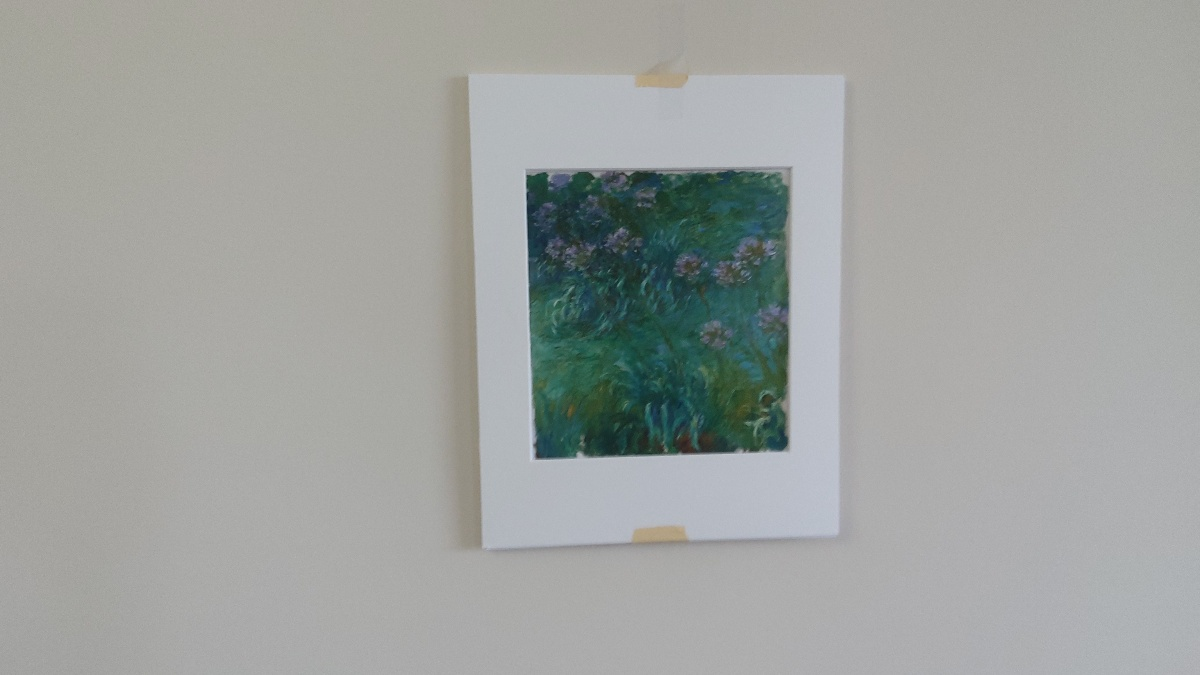painting: (517, 159, 800, 464)
